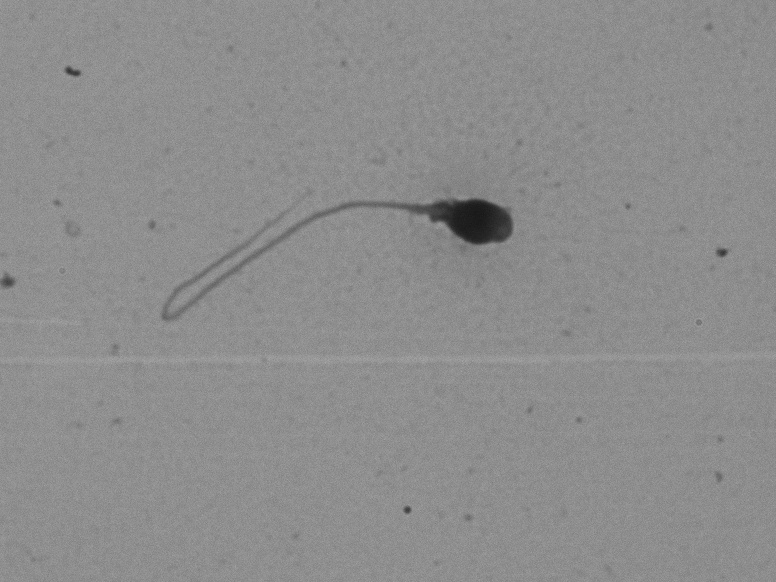Abnormal: (110, 151, 569, 334)
